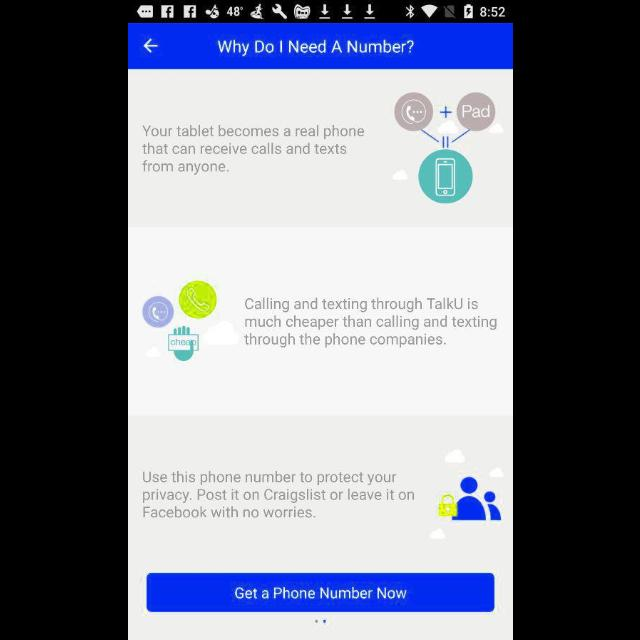icon: (144, 39, 158, 53)
image: (391, 92, 503, 204), (140, 280, 238, 360), (429, 449, 503, 539)
pageindicator: (312, 618, 326, 624)
text: (244, 297, 496, 349), (142, 470, 414, 518), (142, 124, 364, 176), (217, 41, 413, 58)
textbutton: (146, 573, 494, 613)
toolbar: (128, 24, 512, 70)
uppertaskbar: (128, 1, 512, 23)
